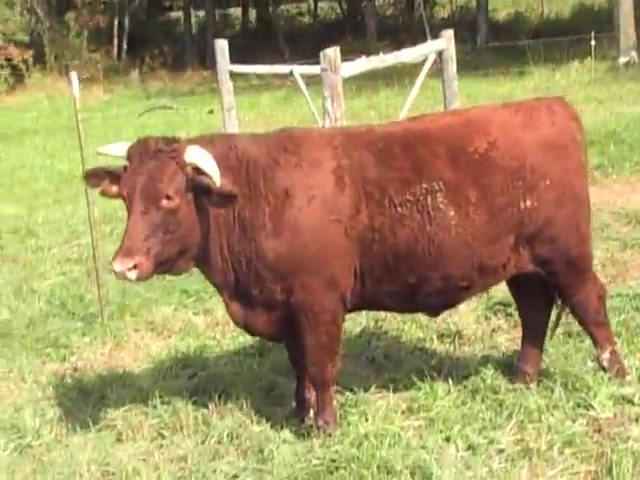cow: (83, 96, 627, 437)
